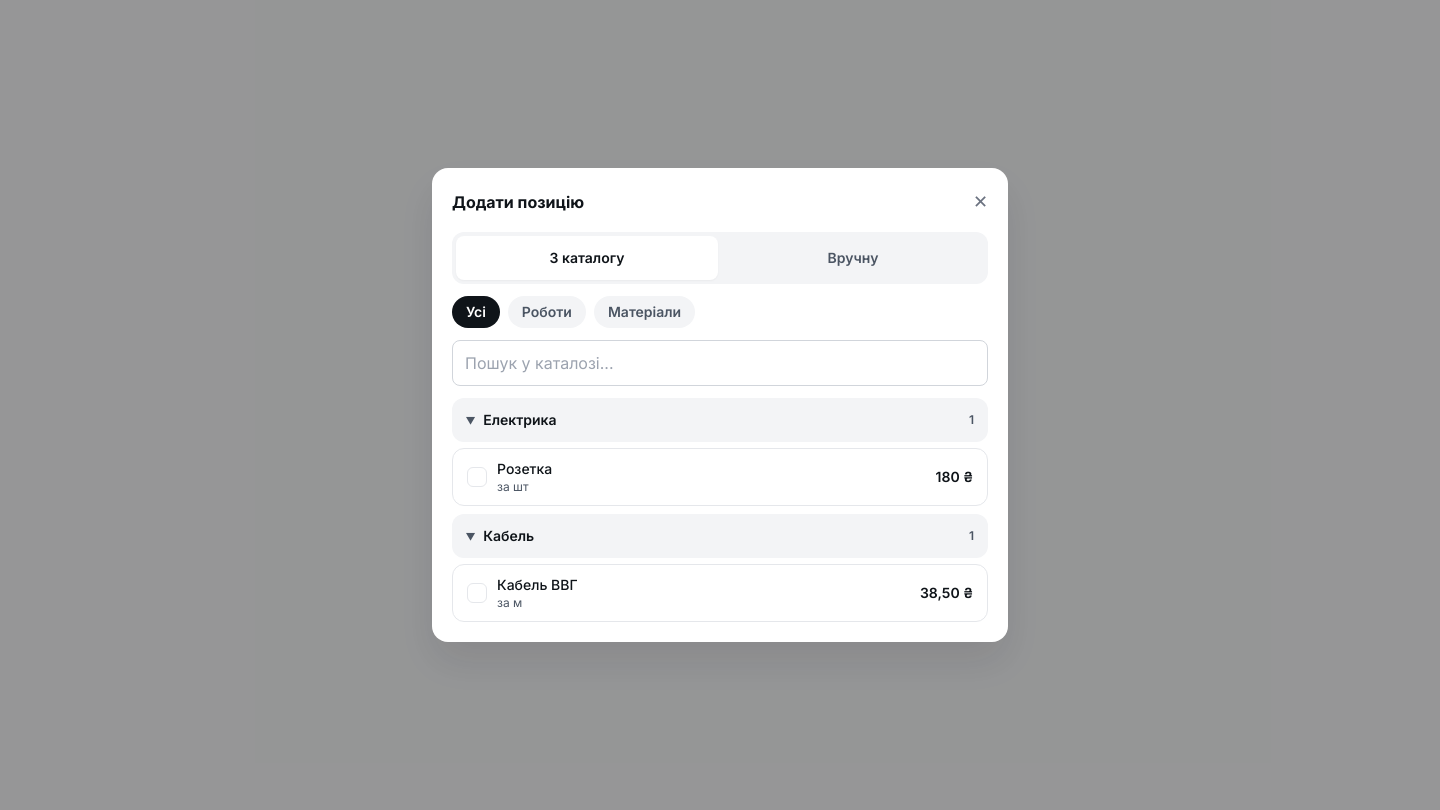
it: AddItemSheet — catalog multi-select › filters the catalog list by type (works / materials)
This screenshot has width=1440, height=810.
expect the number of buttons with test id "catalog-row" is 2: met, box [452,448,988,506]; [452,564,988,622]
"Матеріали" → only the MATERIAL (Кабель ВВГ) remains.
Click the button "Матеріали": (645, 312) [594,296,695,328]
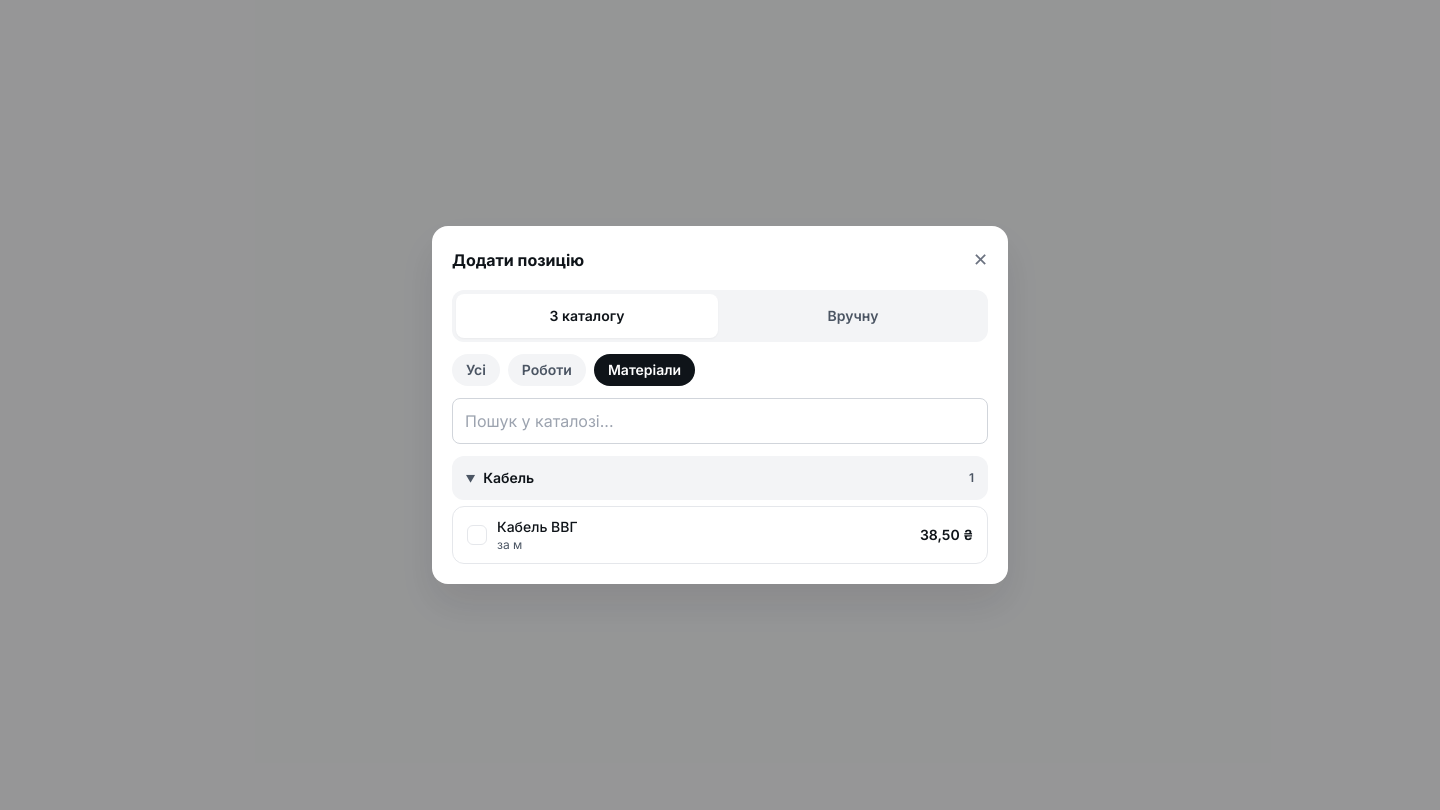
expect the text "Кабель ВВГ" is shown: met, box [497,517,578,537]
expect the number of buttons with test id "catalog-row" is 1: met, box [452,506,988,564]
expect the button "Розетка" is gone: met
"Роботи" → only the WORK (Розетка) remains.
Click the button "Роботи": (547, 370) [508,354,586,386]
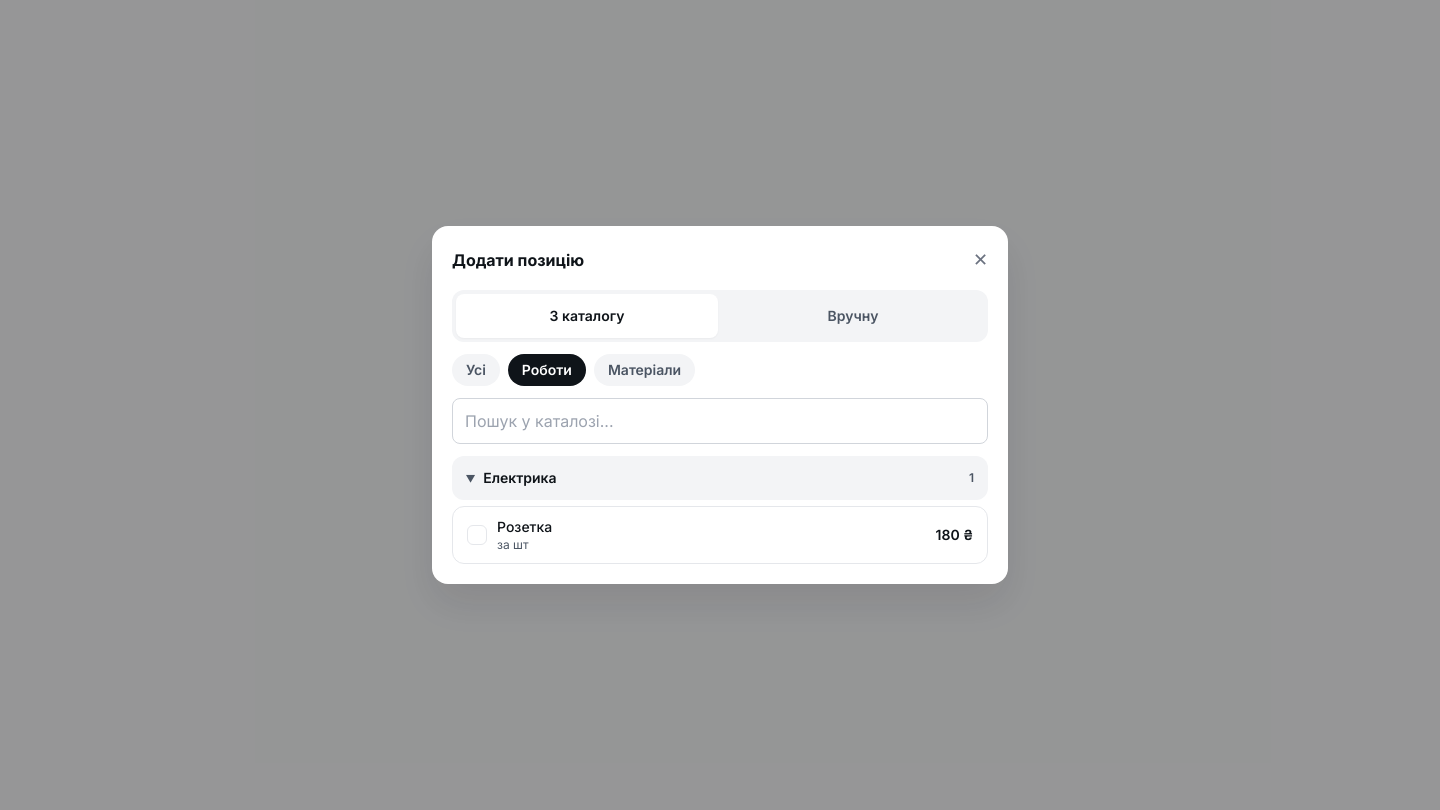
expect the number of buttons with test id "catalog-row" is 1: met, box [452,506,988,564]
expect the text "Розетка" is shown: met, box [497,517,552,537]
